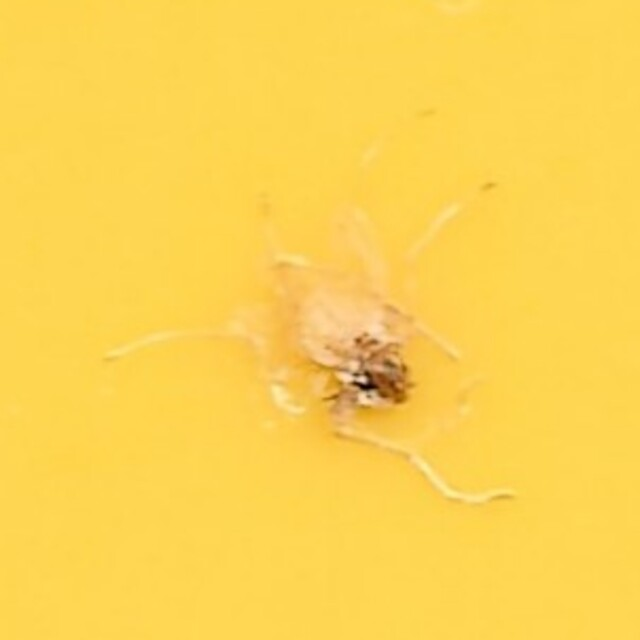Hemiptera: (212, 218, 428, 422)
